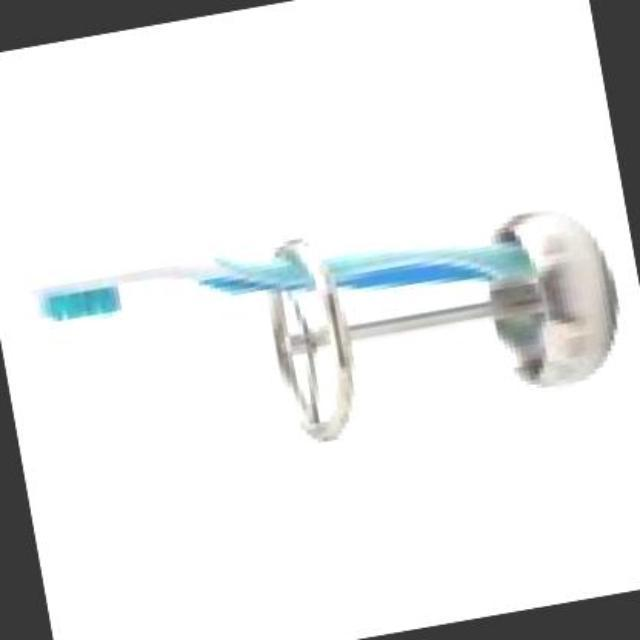toothbrush: (4, 183, 560, 353)
